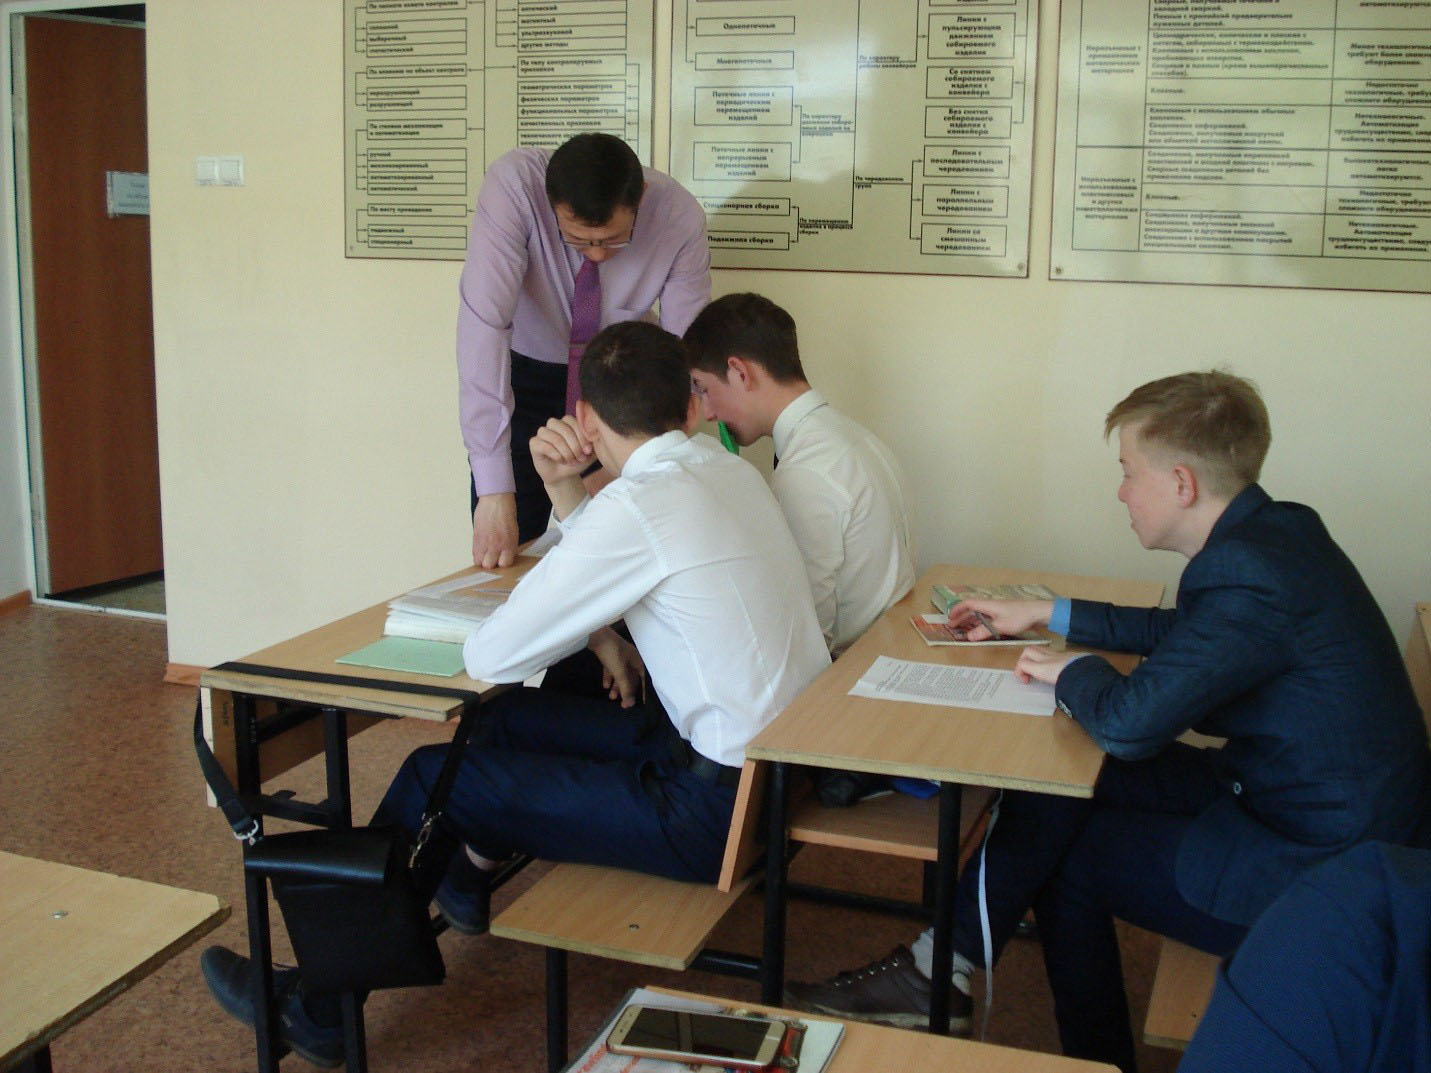students: (204, 319, 831, 1068), (795, 368, 1431, 1036), (456, 129, 712, 567), (675, 289, 920, 648)
